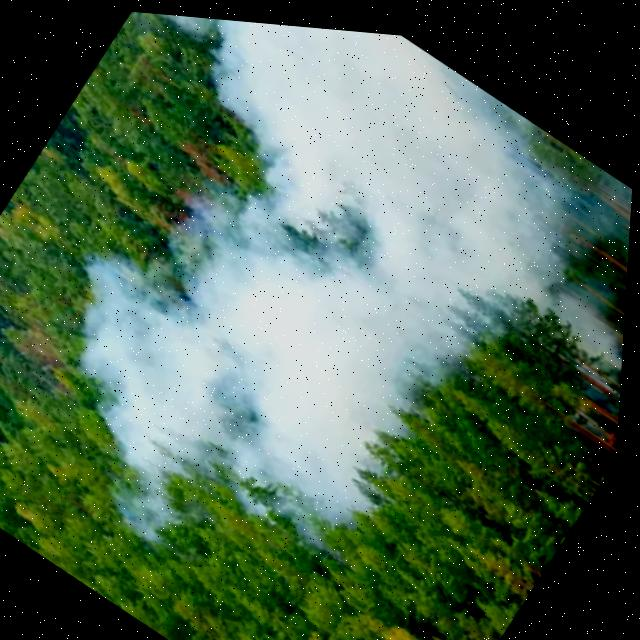Smoke: (0, 101, 512, 640), (90, 7, 640, 377)
